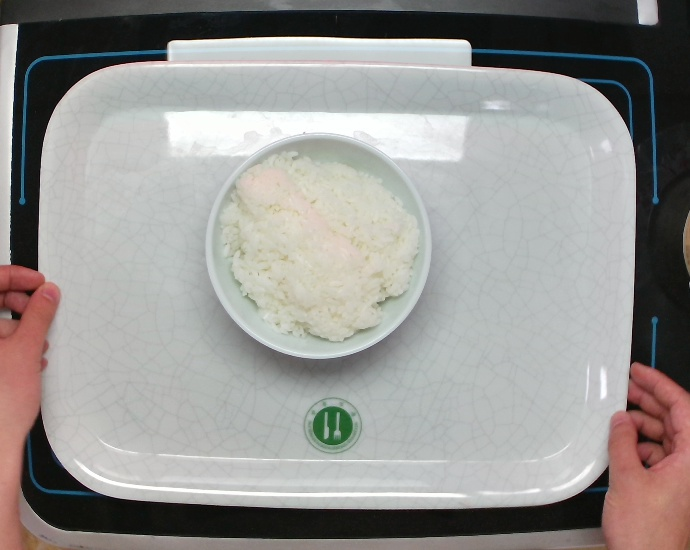JYsf-Fan_Wan: (203, 130, 433, 362)
